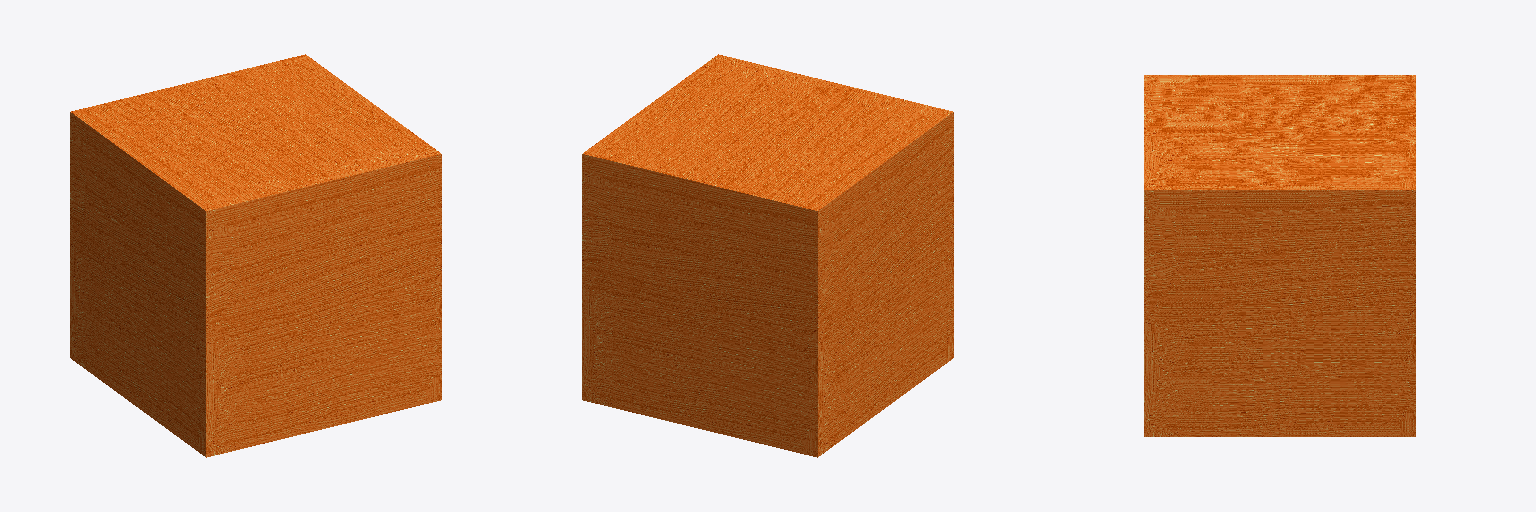
The picture shows the model from 3 angles: view 1: azimuth 30°, elevation 25°; view 2: azimuth 150°, elevation 25°; view 3: azimuth 270°, elevation 25°; orthographic projection.
Parts seen in each view (by area): view 1: Cube; view 2: Cube; view 3: Cube.
Part boxes in pixels (x1,y1,x2,y2): Cube: (70,54,441,457); Cube: (582,54,953,457); Cube: (1144,75,1415,436).
Bounding box in the file's own units: 2 × 2 × 2.
Materials: 1 (1 with a texture image).